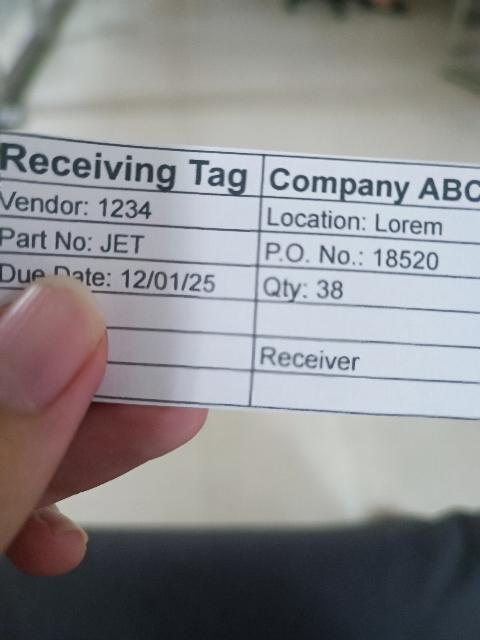PO no: (258, 230, 480, 278)
part no: (0, 216, 261, 266)
qty: (256, 265, 480, 314)
tags: (0, 133, 480, 420)
